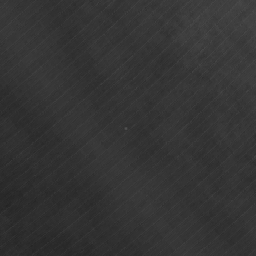Target: (122, 125, 127, 130)
